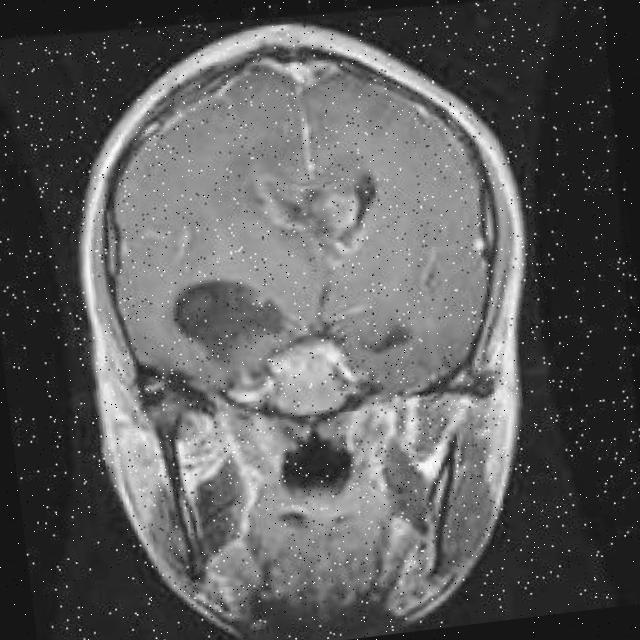EMCI: (190, 264, 300, 349)
